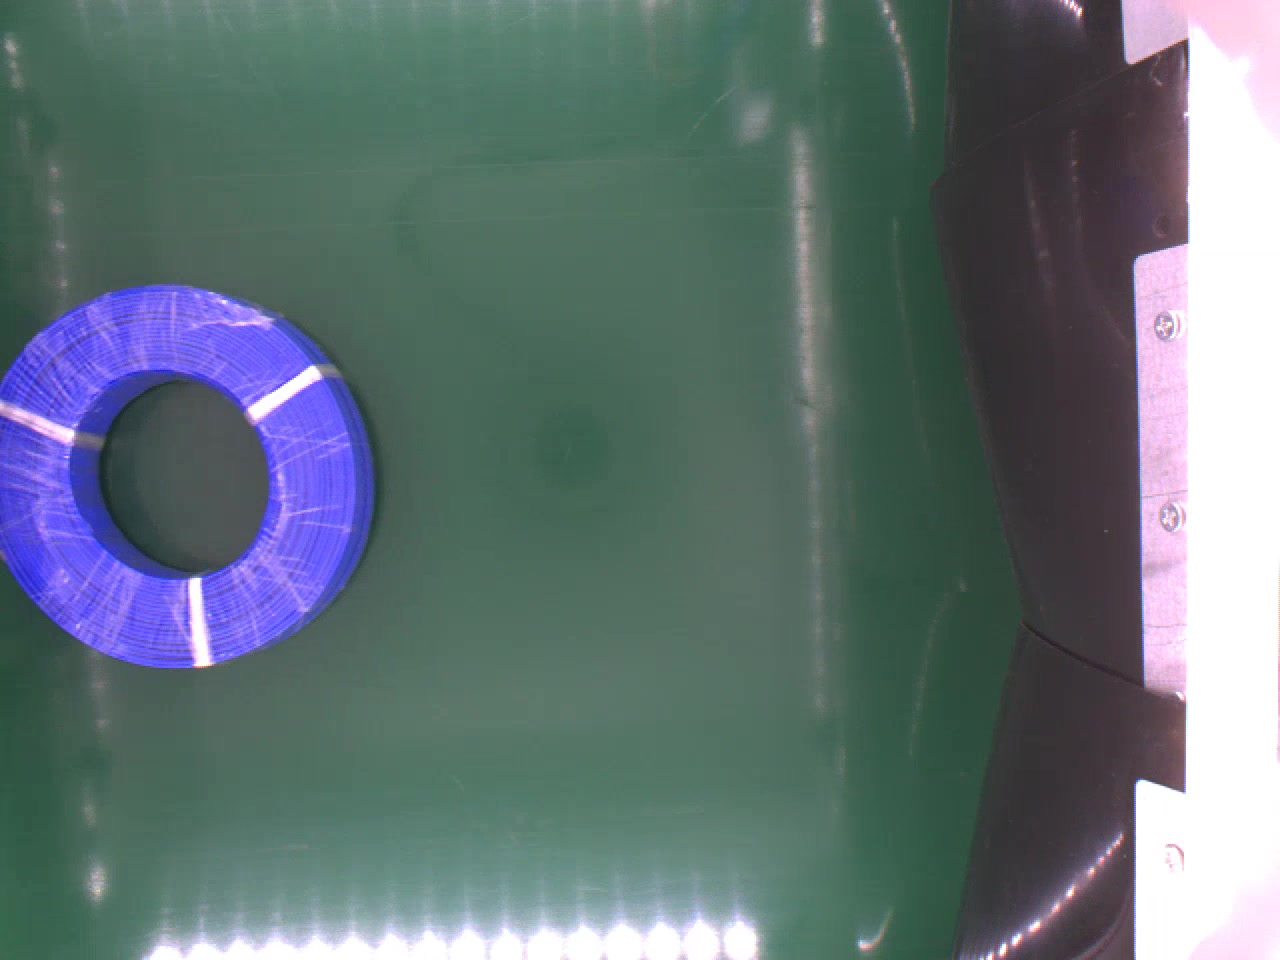blue: (0, 285, 382, 668)
